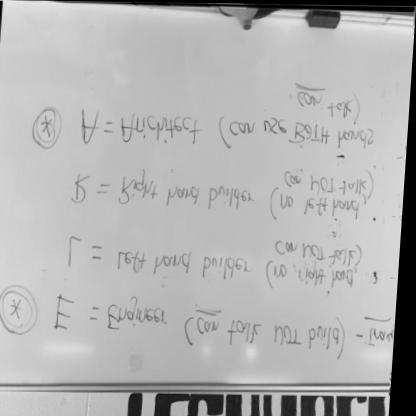Handwritten text: (50, 289, 401, 361), (73, 82, 387, 162), (56, 165, 380, 233), (51, 229, 376, 291)
Whiteboard: (0, 10, 415, 400)
